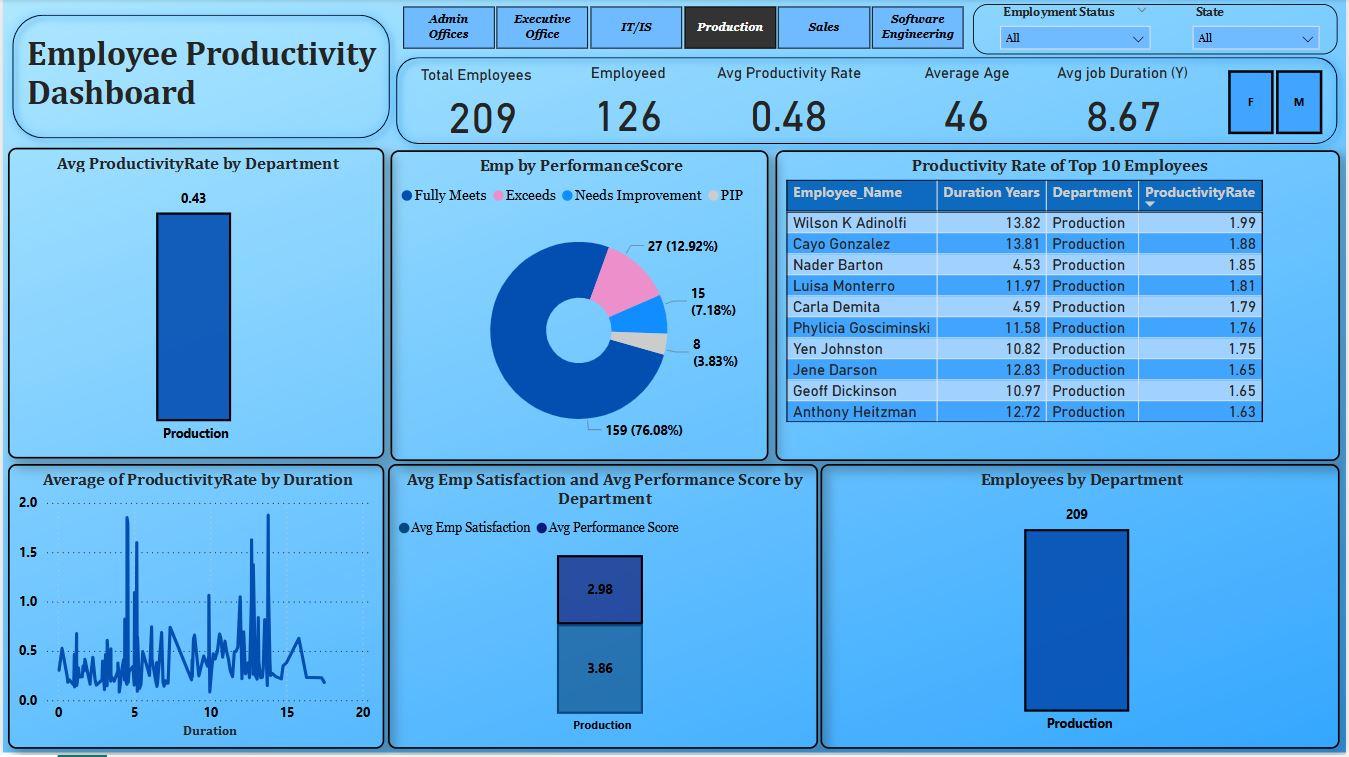

What the dashboard file says about the page in this screenshot:
{"tool":"powerbi","page":{"name":"Page 1","canvas":[1280,720],"ordinal":0},"visuals":[{"type":"shape","box":[924.3,4.9,347.4,47.9],"z":0},{"type":"shape","box":[365.5,46.6,914.5,100.7],"z":1000},{"type":"card","title":"Total Employees","fields":{"Values":["CountNonNull(HR_data_week3_finalsheet.EmpID)"]},"box":[392.6,62.8,128.9,74.9],"z":2000},{"type":"card","title":"Employeed","fields":{"Values":["CountNonNull(HR_data_week3_finalsheet.DateofTermination)"]},"box":[530.5,61.6,128.9,74.9],"z":3000},{"type":"card","title":"Average Age","fields":{"Values":["Avg(HR_data_week3_finalsheet.Age)"]},"box":[853.1,61.6,128.9,74.9],"z":4000},{"type":"card","title":"Avg job Duration (Y)","fields":{"Values":["Avg(HR_data_week3_finalsheet.EmploymentDuration_Years)"]},"box":[999.2,61.6,137.5,74.9],"z":5000},{"type":"slicer","fields":{"Values":["HR_data_week3_finalsheet.Sex"]},"box":[1140.1,60.4,139.9,74.9],"z":6000},{"type":"shape","box":[0,6,377.4,135.7],"z":7000},{"type":"textbox","box":[17.9,27.4,375,101.2],"z":8000},{"type":"tableEx","title":"Productivity Rate of Top 10 Employees","fields":{"Values":["HR_data_week3_finalsheet.Employee_Name","Sum(HR_data_week3_finalsheet.EmploymentDuration_Years)","HR_data_week3_finalsheet.Department","Sum(HR_data_week3_finalsheet.ProductivityRate)"]},"box":[735.3,143.6,537.6,295.8],"z":9000},{"type":"columnChart","title":"Employees by Department","fields":{"Category":["HR_data_week3_finalsheet.Department"],"Y":["CountNonNull(HR_data_week3_finalsheet.EmpID)"]},"box":[778.2,443.1,494.7,271.3],"z":10000},{"type":"card","title":"Avg Productivity Rate","fields":{"Values":["Avg(HR_data_week3_finalsheet.ProductivityRate)"]},"box":[671.4,61.6,154.7,74.9],"z":11000},{"type":"donutChart","title":"Emp by PerformanceScore","fields":{"Y":["CountNonNull(HR_data_week3_finalsheet.EmpID)"],"Category":["HR_data_week3_finalsheet.PerformanceScore"]},"box":[369.5,143.6,359.6,295.8],"z":12000},{"type":"columnChart","title":"Avg ProductivityRate by Department","fields":{"Category":["HR_data_week3_finalsheet.Department"],"Y":["Avg(HR_data_week3_finalsheet.ProductivityRate)"]},"box":[4.9,141.2,358.4,295.8],"z":13000},{"type":"slicer","fields":{"Values":["HR_data_week3_finalsheet.Department"]},"box":[354.7,0,584.3,54],"z":14000},{"type":"slicer","title":"State","fields":{"Values":["HR_data_week3_finalsheet.State"]},"box":[1123.1,0,141.2,55.2],"z":15000},{"type":"slicer","title":"State","fields":{"Values":["HR_data_week3_finalsheet.EmploymentStatus"]},"box":[939,0,163.3,55.2],"z":16000},{"type":"lineChart","fields":{"Y":["Avg(HR_data_week3_finalsheet.ProductivityRate)"],"Category":["HR_data_week3_finalsheet.EmploymentDuration_Years"]},"box":[5,443,358,271],"z":17000},{"type":"columnChart","fields":{"Category":["HR_data_week3_finalsheet.Department"],"Y":["Avg(HR_data_week3_finalsheet.EmpSatisfaction)","Avg(HR_data_week3_finalsheet.PerformanceScoreNum)"]},"box":[366.7,442.9,409.5,271.4],"z":18000}]}

Visuals, with their boxes in screenshot pixels (x1, y1, x2, y2), scaled from the page's 1280x720 canvas onto the 1349x757 screenshot:
shape: bbox(974, 5, 1340, 56)
shape: bbox(385, 49, 1348, 155)
"Total Employees" card: bbox(414, 66, 550, 145)
"Employeed" card: bbox(559, 65, 695, 144)
"Average Age" card: bbox(899, 65, 1035, 144)
"Avg job Duration (Y)" card: bbox(1053, 65, 1198, 144)
slicer - HR_data_week3_finalsheet.Sex: bbox(1202, 64, 1348, 142)
shape: bbox(0, 6, 398, 149)
textbox: bbox(19, 29, 414, 135)
"Productivity Rate of Top 10 Employees" tableEx: bbox(775, 151, 1342, 462)
"Employees by Department" columnChart: bbox(820, 466, 1342, 751)
"Avg Productivity Rate" card: bbox(708, 65, 871, 144)
"Emp by PerformanceScore" donutChart: bbox(389, 151, 768, 462)
"Avg ProductivityRate by Department" columnChart: bbox(5, 148, 383, 459)
slicer - HR_data_week3_finalsheet.Department: bbox(374, 0, 990, 57)
"State" slicer: bbox(1184, 0, 1332, 58)
"State" slicer: bbox(990, 0, 1162, 58)
lineChart - Avg(HR_data_week3_finalsheet.ProductivityRate) x HR_data_week3_finalsheet.EmploymentDuration_Years: bbox(5, 466, 383, 751)
columnChart - HR_data_week3_finalsheet.Department x Avg(HR_data_week3_finalsheet.EmpSatisfaction): bbox(386, 466, 818, 751)
